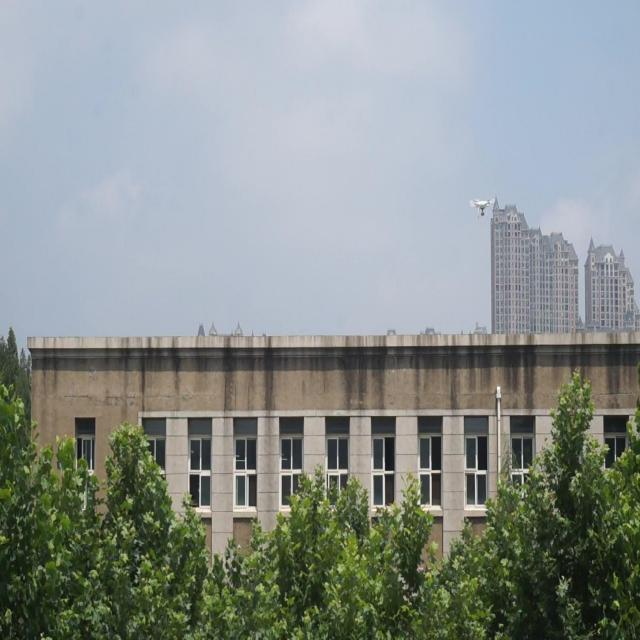UAV: (469, 198, 495, 218)
